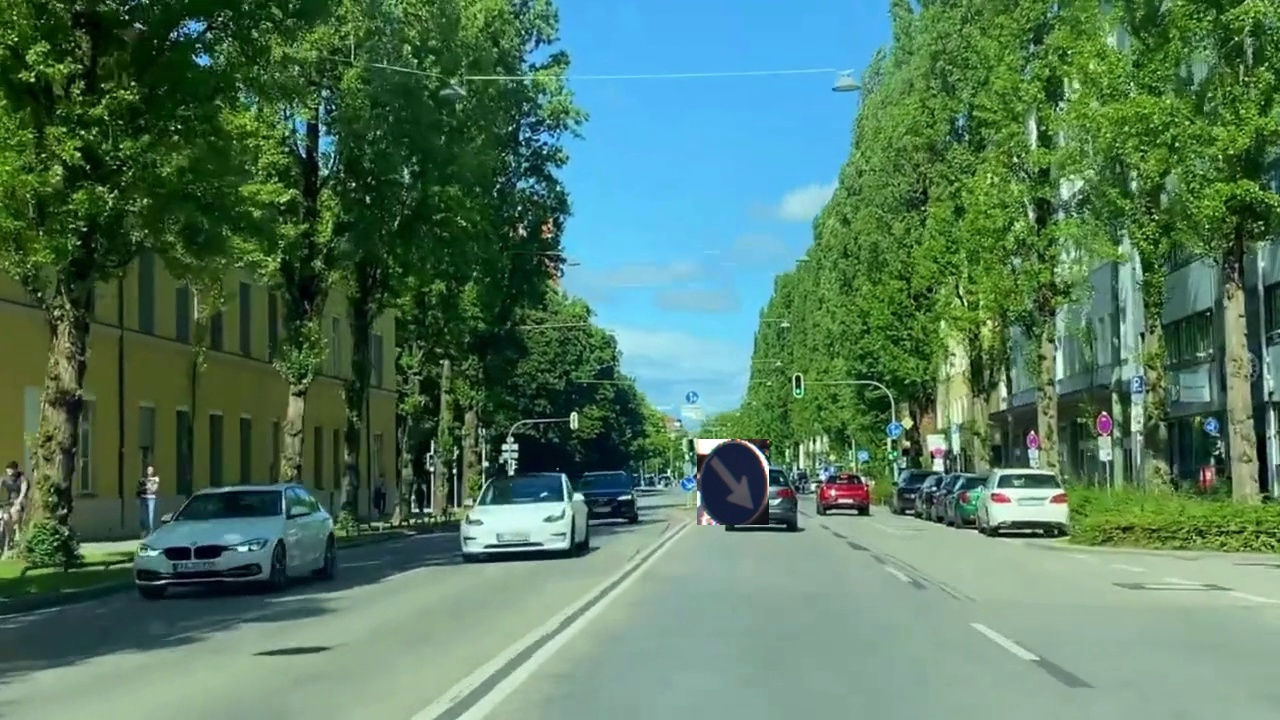Keep right: (697, 439, 769, 525)
